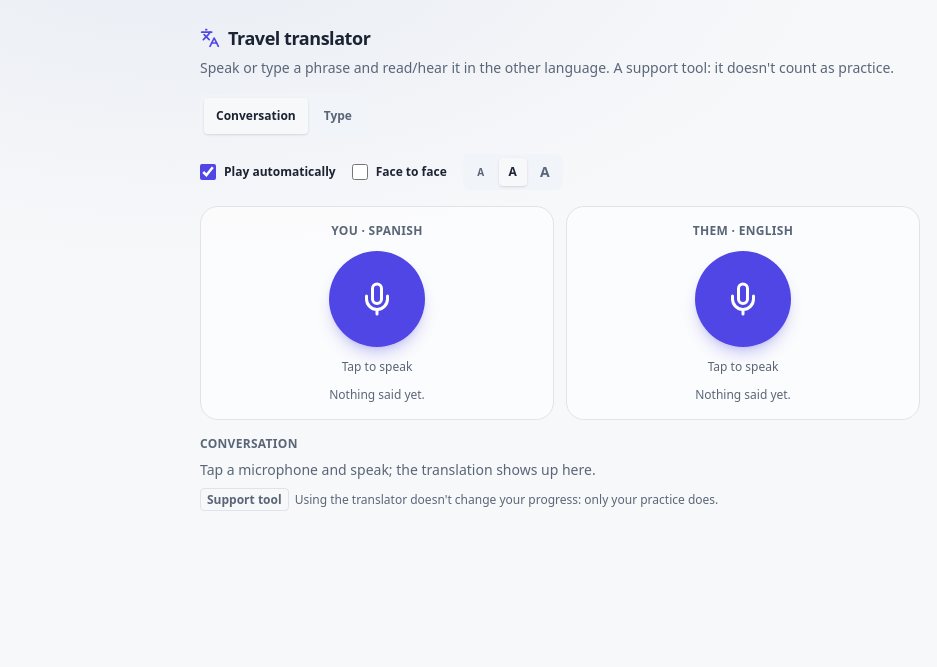
Test: TranslatorScreen · V3.39 traductor de viaje › traduce por texto con la dirección activa y muestra el resultado
Click the button "Type" at (338, 116), box [312,98,364,134]
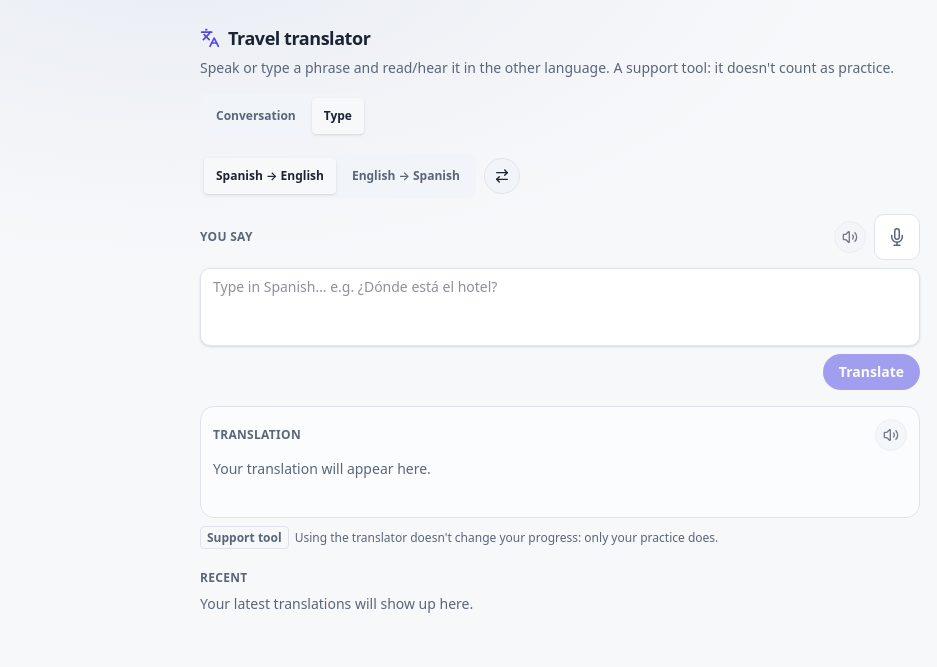
Type "¿Dónde está el hotel?" into the text box named "Phrase to translate" at (560, 307), box [200,268,920,346]
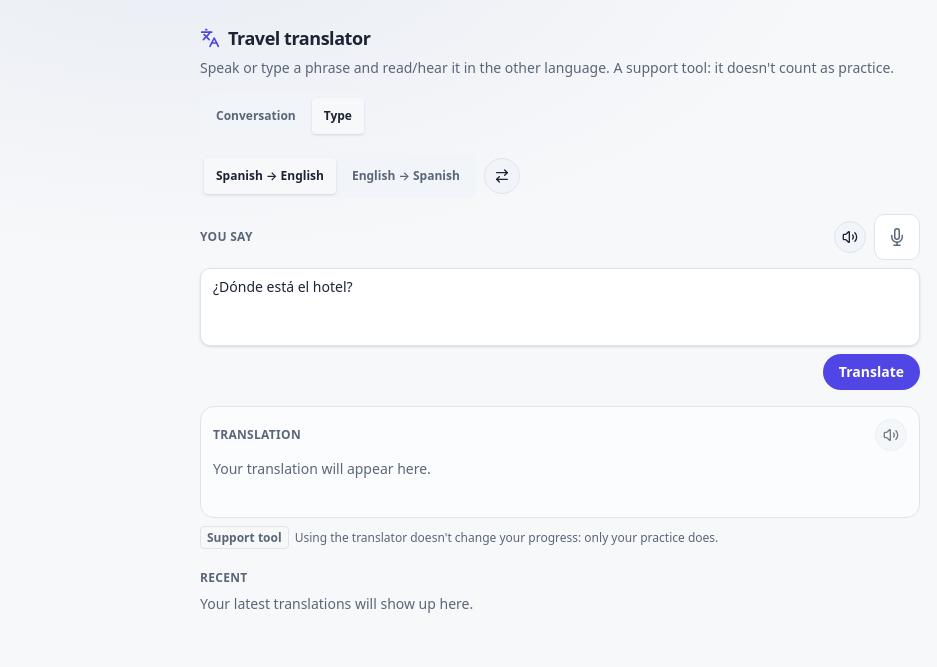
Click the button "Translate" at (871, 372), box [823,354,920,390]
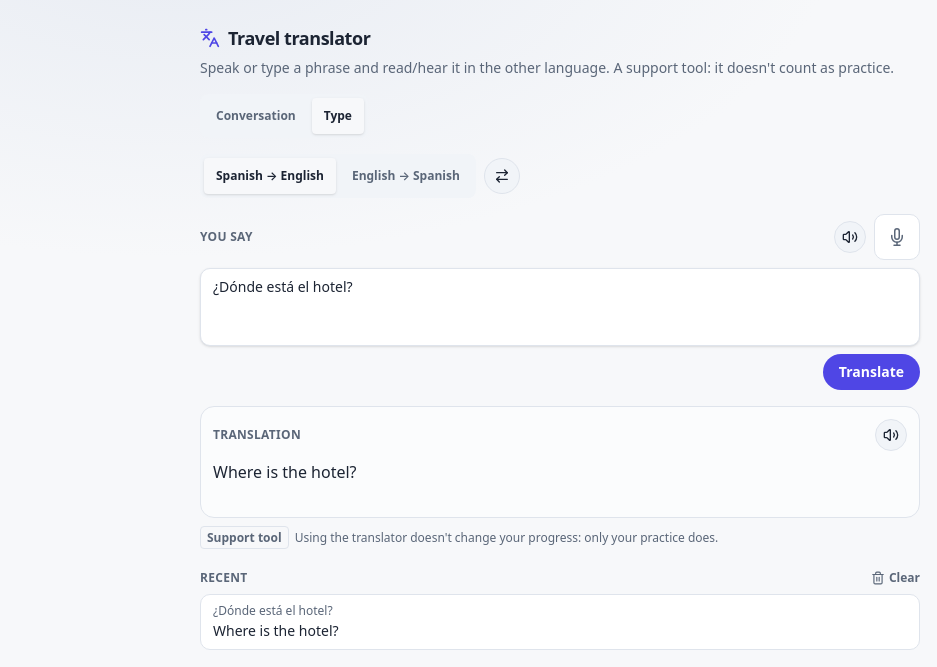
Now the text "Where is the hotel?" below "Translation" is shown, box [213,461,356,483]
